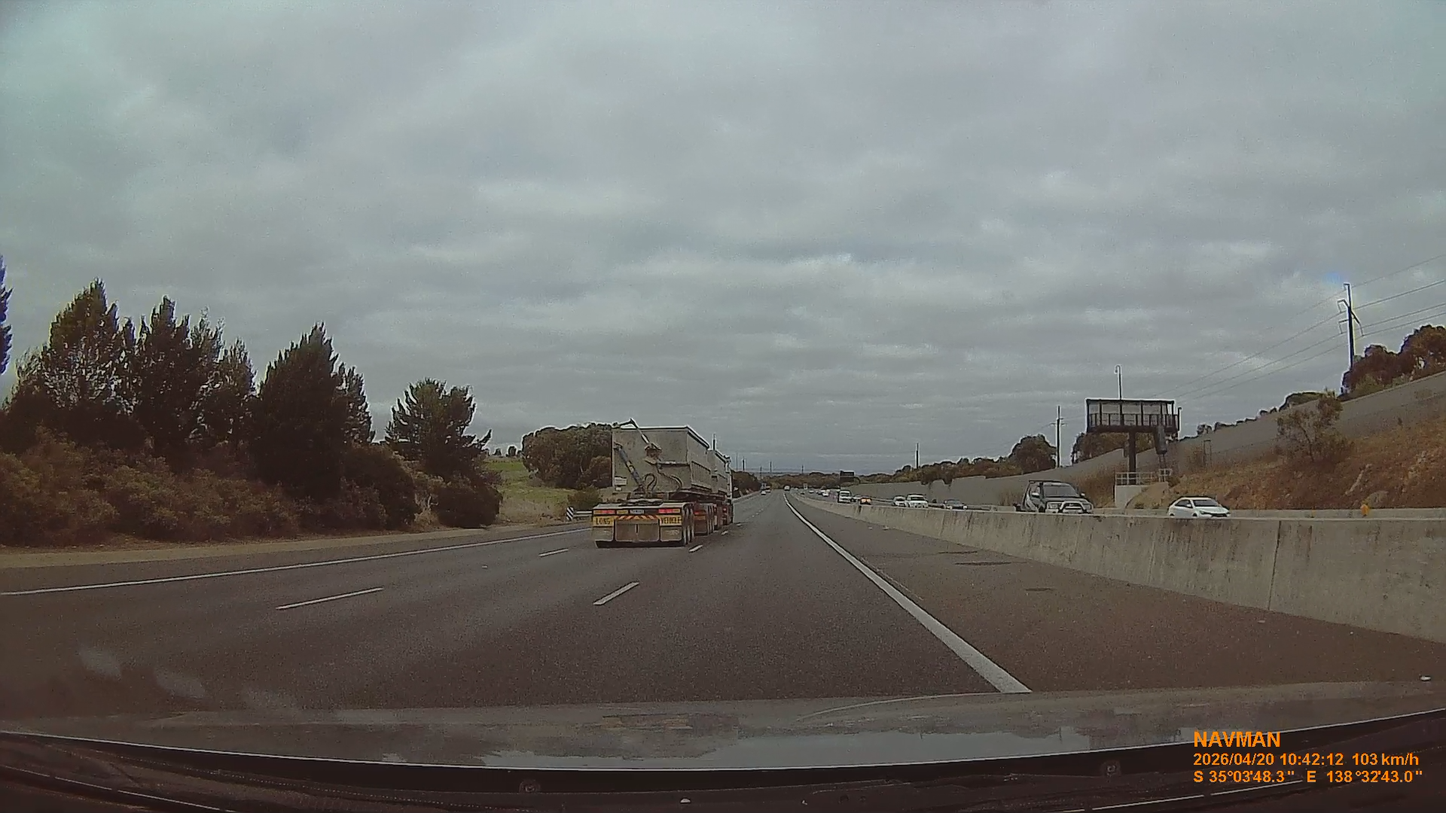road barriers: (854, 508, 1445, 644), (566, 508, 592, 522)
